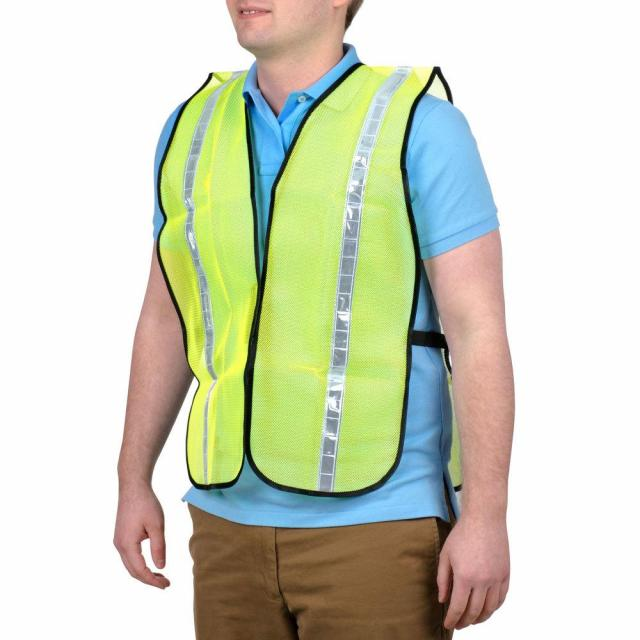Reflective-Jacket: (154, 53, 454, 510)
